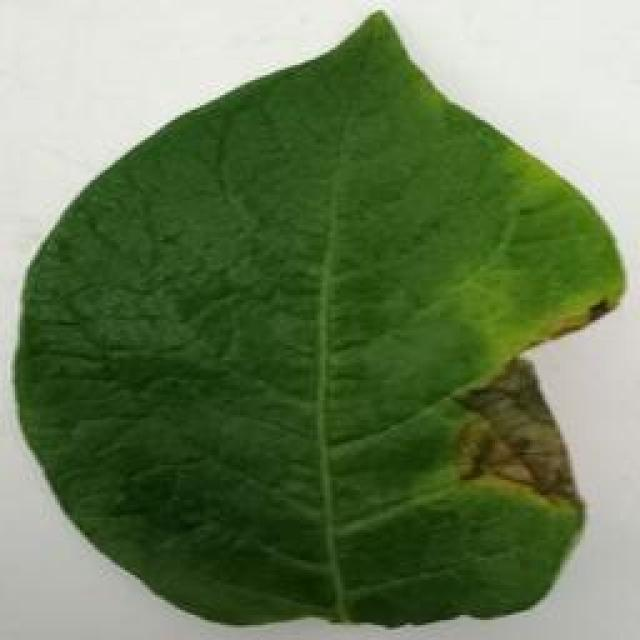Potato_Late_Blight: (18, 7, 618, 626)
